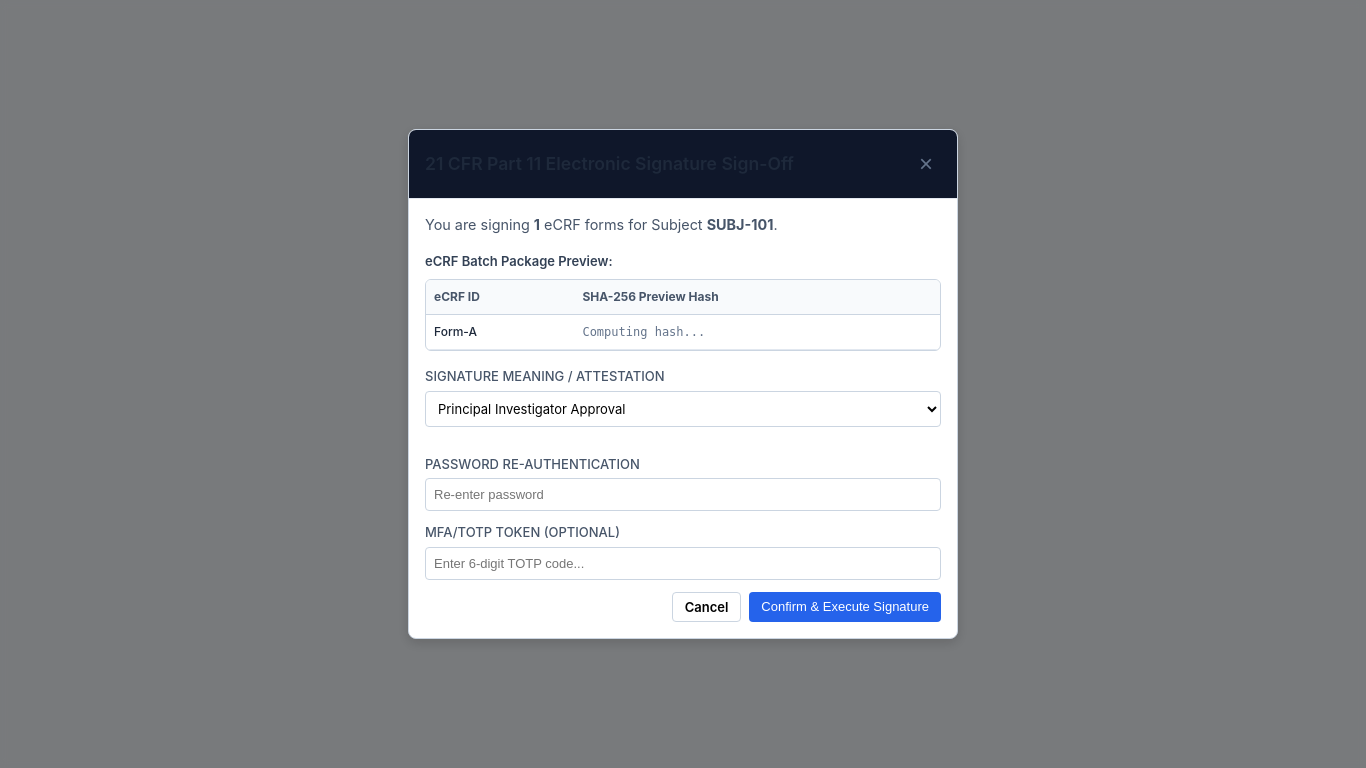
it: BatchSignatureModal.vue › completes successful batch signing and displays confirmation banner
In the password field labelled "Password Re-Authentication": [683, 495] box x1=425 y1=478 x2=941 y2=511, type "correct_password"
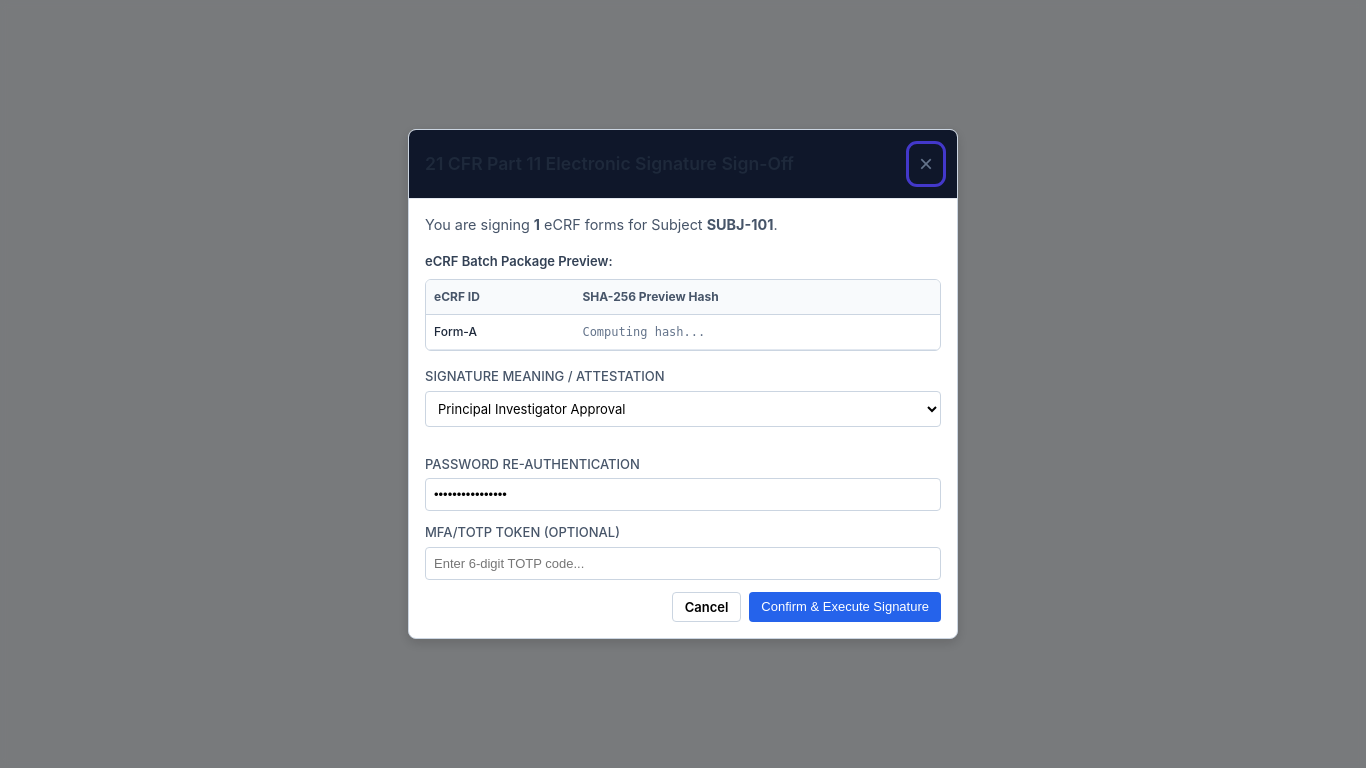
Select "Principal Investigator Approval" in the dropdown with class "signature-meaning-picker": [683, 409] box x1=425 y1=391 x2=941 y2=427
Submit form
Submit the form, box x1=425 y1=367 x2=941 y2=622
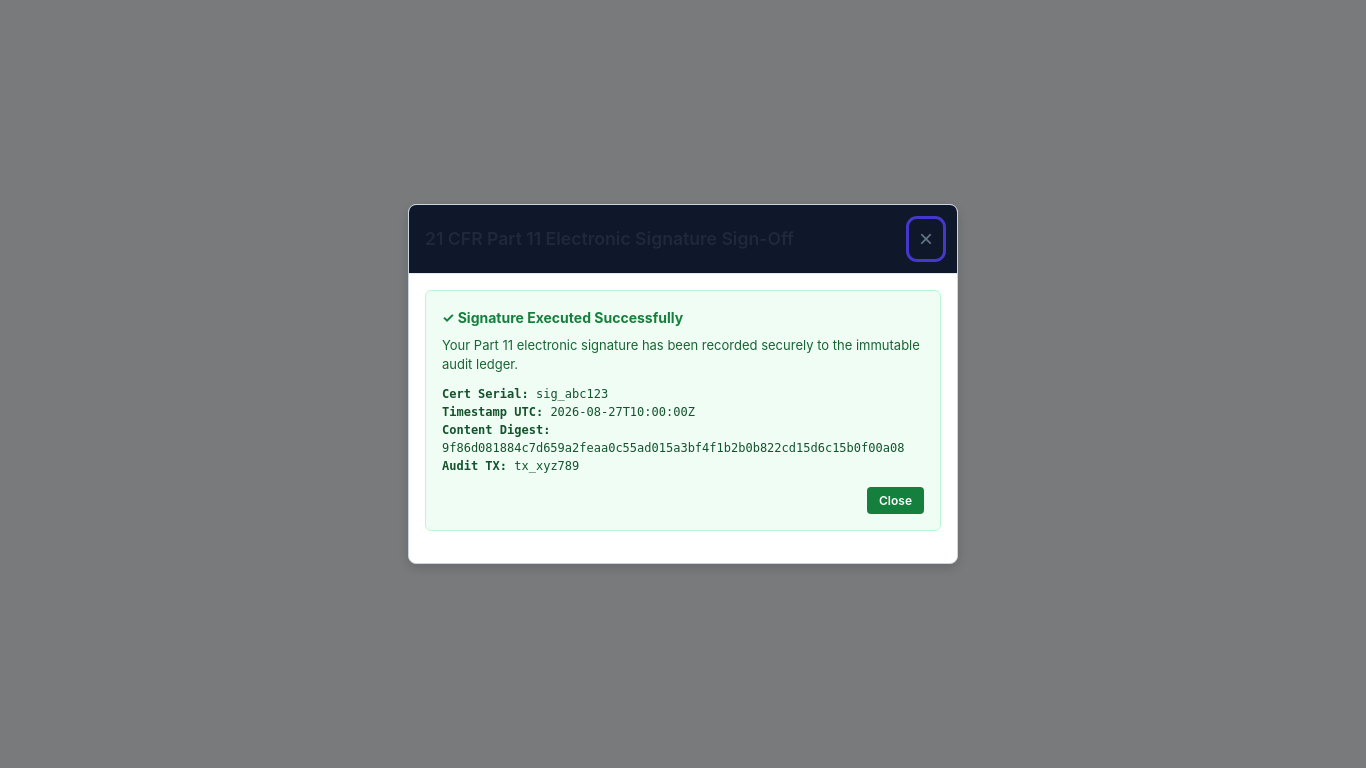
Check: the element with class "confirmation-banner" is shown, box x1=425 y1=290 x2=941 y2=531
Check: the element with class "confirmation-banner" shows "sig_abc123", box x1=529 y1=387 x2=608 y2=401
Check: the element with class "confirmation-banner" shows "2026-08-27T10:00:00Z", box x1=543 y1=405 x2=695 y2=419
